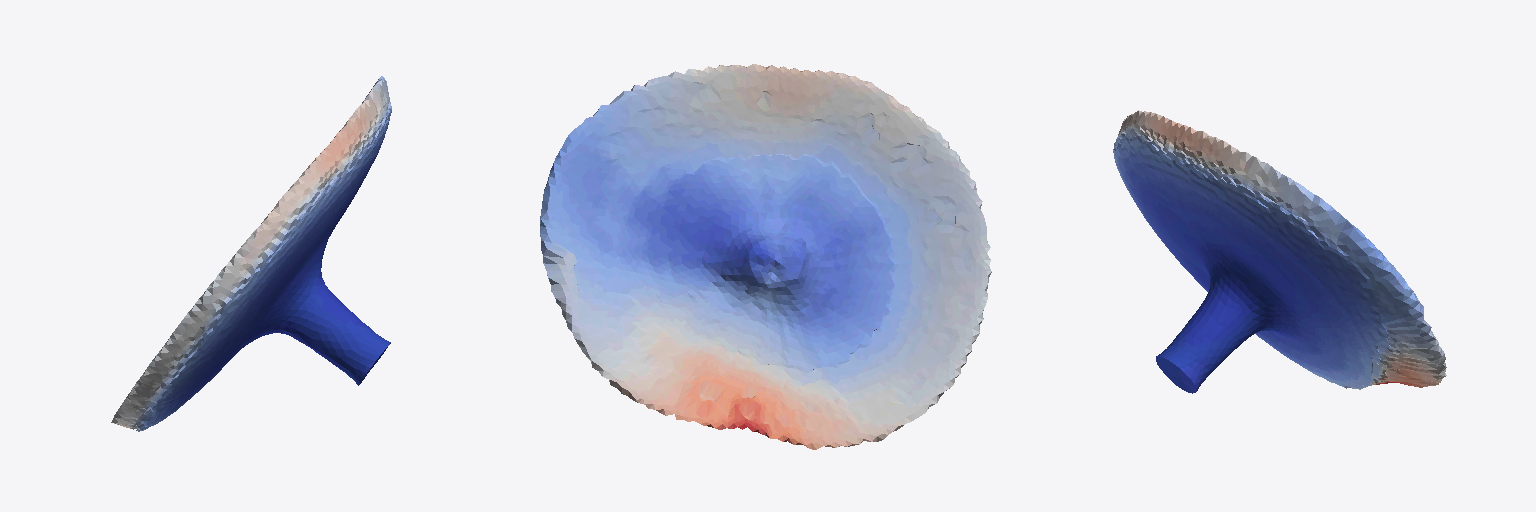
File: colored_model_disk.obj
The picture shows the model from 3 angles: view 1: azimuth 30°, elevation 25°; view 2: azimuth 150°, elevation 25°; view 3: azimuth 270°, elevation 25°; orthographic projection.
Bounding box in the file's own units: 18.61 × 15.99 × 15.9.